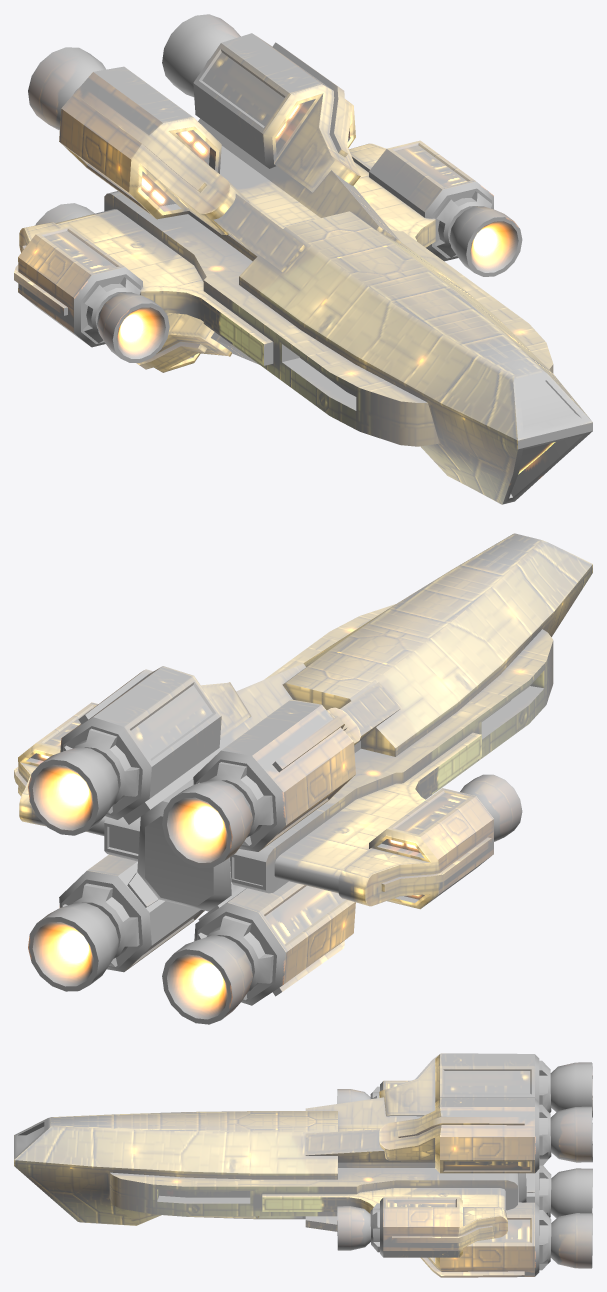
Rendered from Daedalus.fbx.
3 renders of one model, top to bottom at view 1: azimuth 30°, elevation 25°; view 2: azimuth 150°, elevation 25°; view 3: azimuth 270°, elevation 25°, orthographic. The views are drawn at different scales.
Parts seen in each view (by area): view 1: Daedalus_LOD0; view 2: Daedalus_LOD0; view 3: Daedalus_LOD0.
Part boxes in pixels (<box>): Daedalus_LOD0: <box>14,14,592,504</box>; Daedalus_LOD0: <box>14,533,592,1024</box>; Daedalus_LOD0: <box>14,1053,592,1277</box>.
Size of what is drawn, in the model's own units: 4858 by 2702 by 8337.
